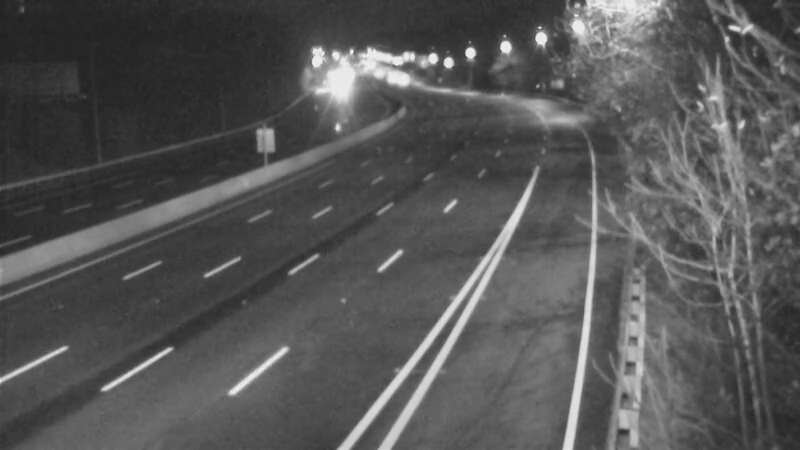vehicle: (313, 58, 363, 108)
